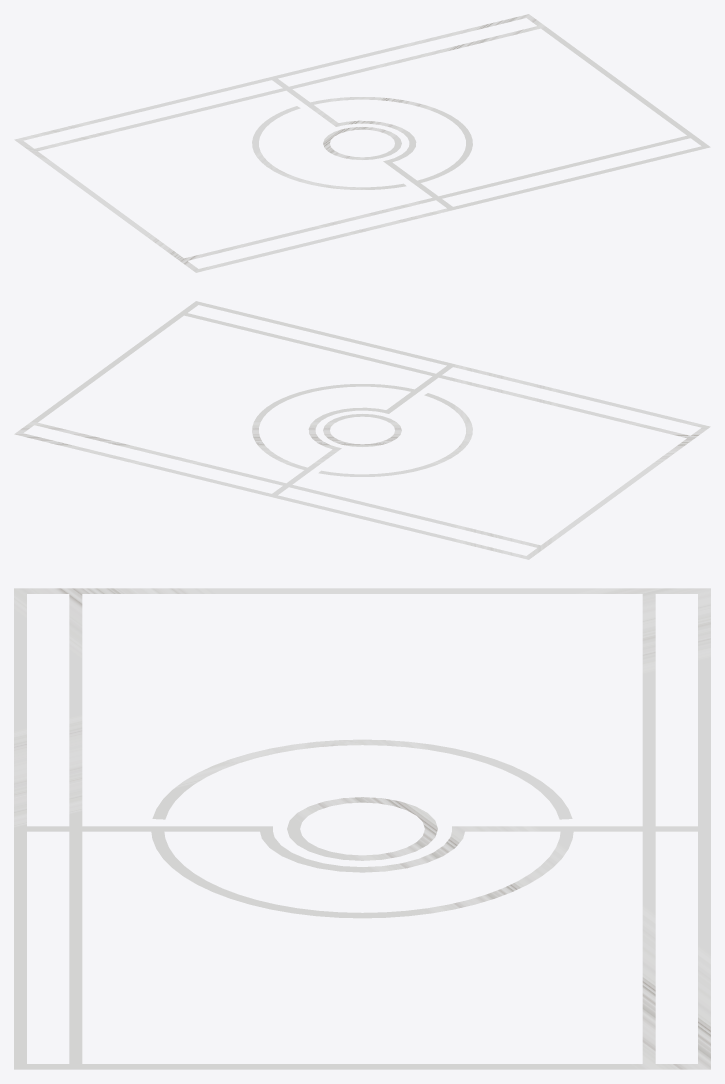
File: objects_un_t07battlecourt01.gltf
The picture shows the model from 3 angles, top to bottom: view 1: azimuth 30°, elevation 25°; view 2: azimuth 150°, elevation 25°; view 3: azimuth 270°, elevation 25°; orthographic projection. The views are drawn at different scales.
Visible parts, largest first — view 1: courtline_shape:objects_un_t07battlecourt01_obj01; view 2: courtline_shape:objects_un_t07battlecourt01_obj01; view 3: courtline_shape:objects_un_t07battlecourt01_obj01.
Boxes of the visible parts, box(x1,y1,x2,y2) form: courtline_shape:objects_un_t07battlecourt01_obj01: box(14, 14, 710, 272); courtline_shape:objects_un_t07battlecourt01_obj01: box(14, 301, 710, 559); courtline_shape:objects_un_t07battlecourt01_obj01: box(14, 588, 710, 1069).
Size of what is drawn, in the model's own units: 22.6 by 0 by 13.84.
Materials: 1 (1 with a texture image).
